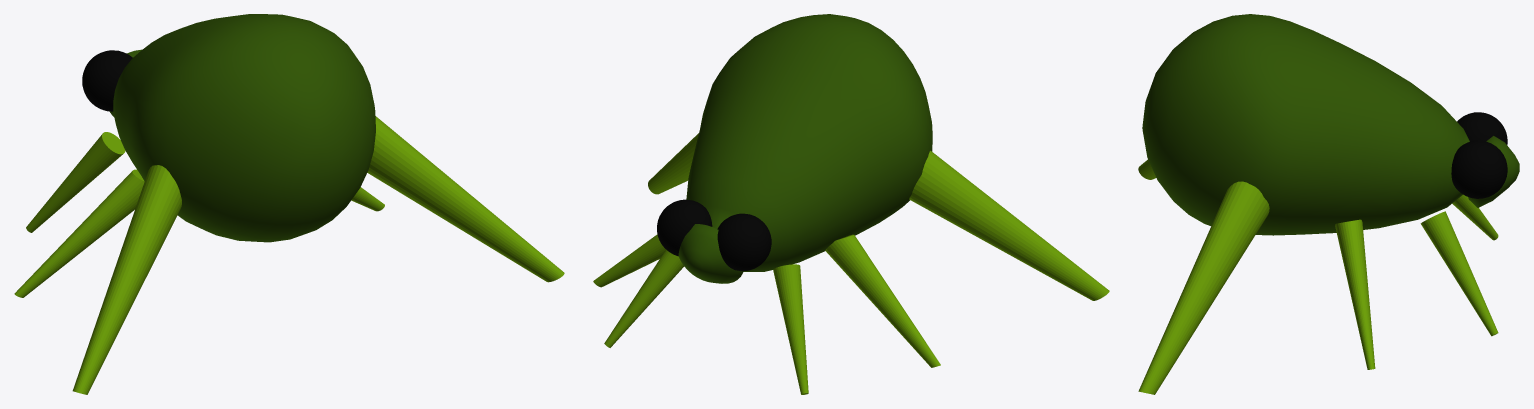
File: Aphid.fbx
The picture shows the model from 3 angles, left to right: view 1: azimuth 30°, elevation 25°; view 2: azimuth 150°, elevation 25°; view 3: azimuth 270°, elevation 25°; orthographic projection. The views are drawn at different scales.
Visible parts, largest first — view 1: Cylinder.002; view 2: Cylinder.002; view 3: Cylinder.002.
Part boxes in pixels (x1,y1,x2,y2): Cylinder.002: [14, 14, 564, 394]; Cylinder.002: [593, 14, 1109, 394]; Cylinder.002: [1138, 14, 1519, 394].
Bounding box in the file's own units: 172 × 122 × 92.86.
